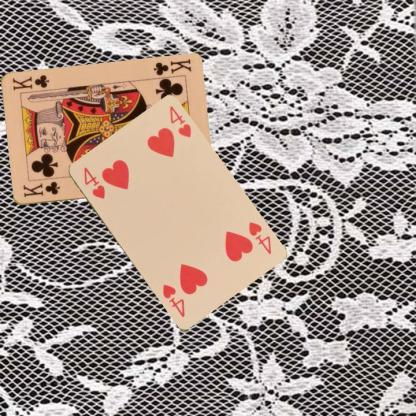4h: (80, 164, 107, 201), (245, 219, 272, 256)
Kc: (20, 179, 61, 199), (151, 56, 192, 76)
